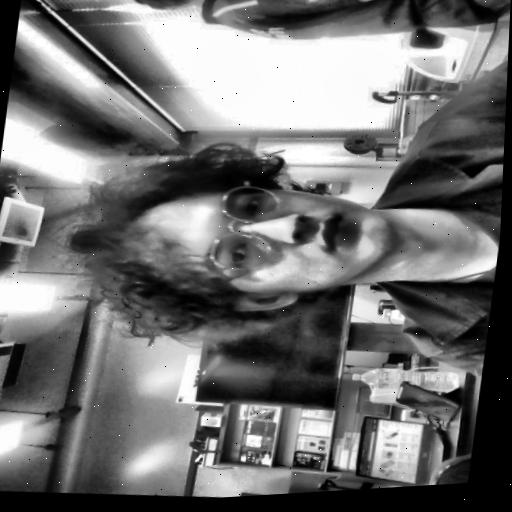Daifuku: (71, 134, 408, 362)
Not Daifuku: (114, 0, 230, 22)
